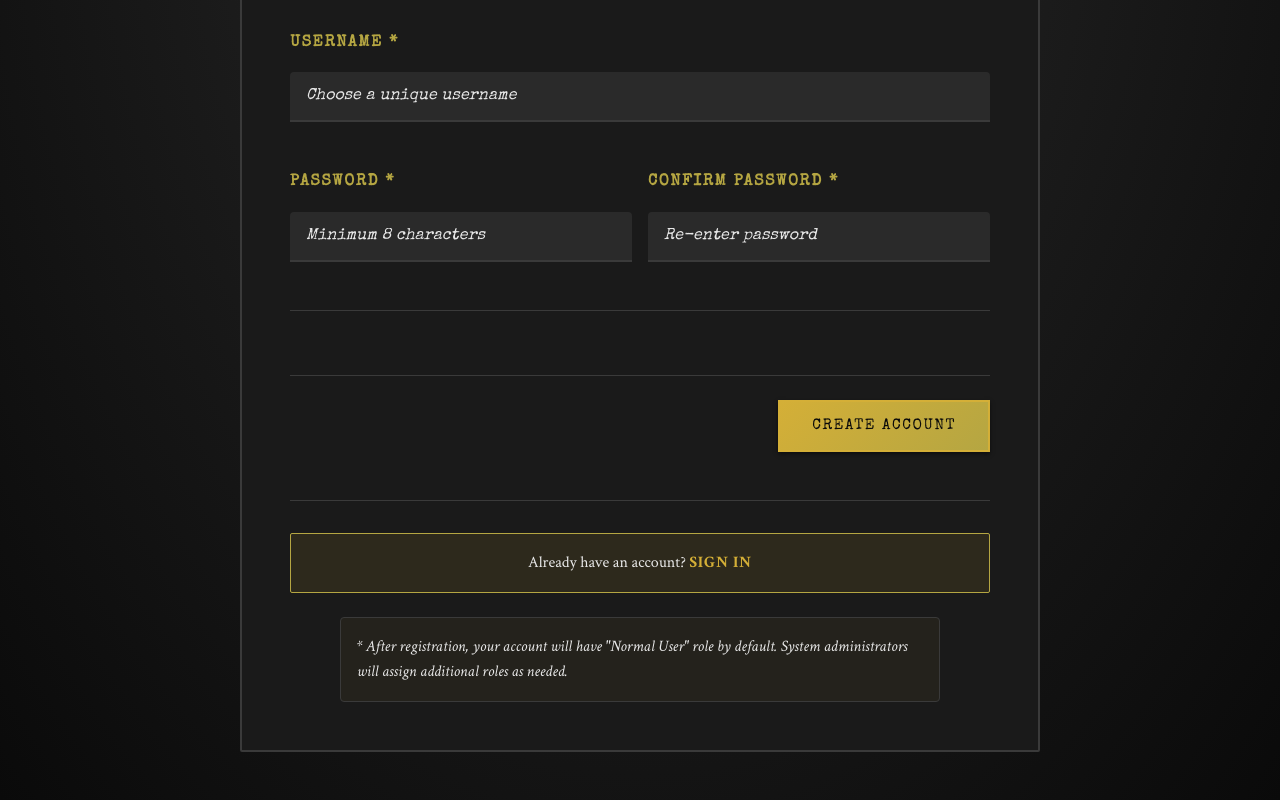
Test: Register Component › shows validation errors for empty required fields
(page scrolled)
What coordinates should you click on to do the following:
click the button "Create Account"
I would click on:
 (884, 426)
Its box is [778,400,990,452].
(page scrolled)
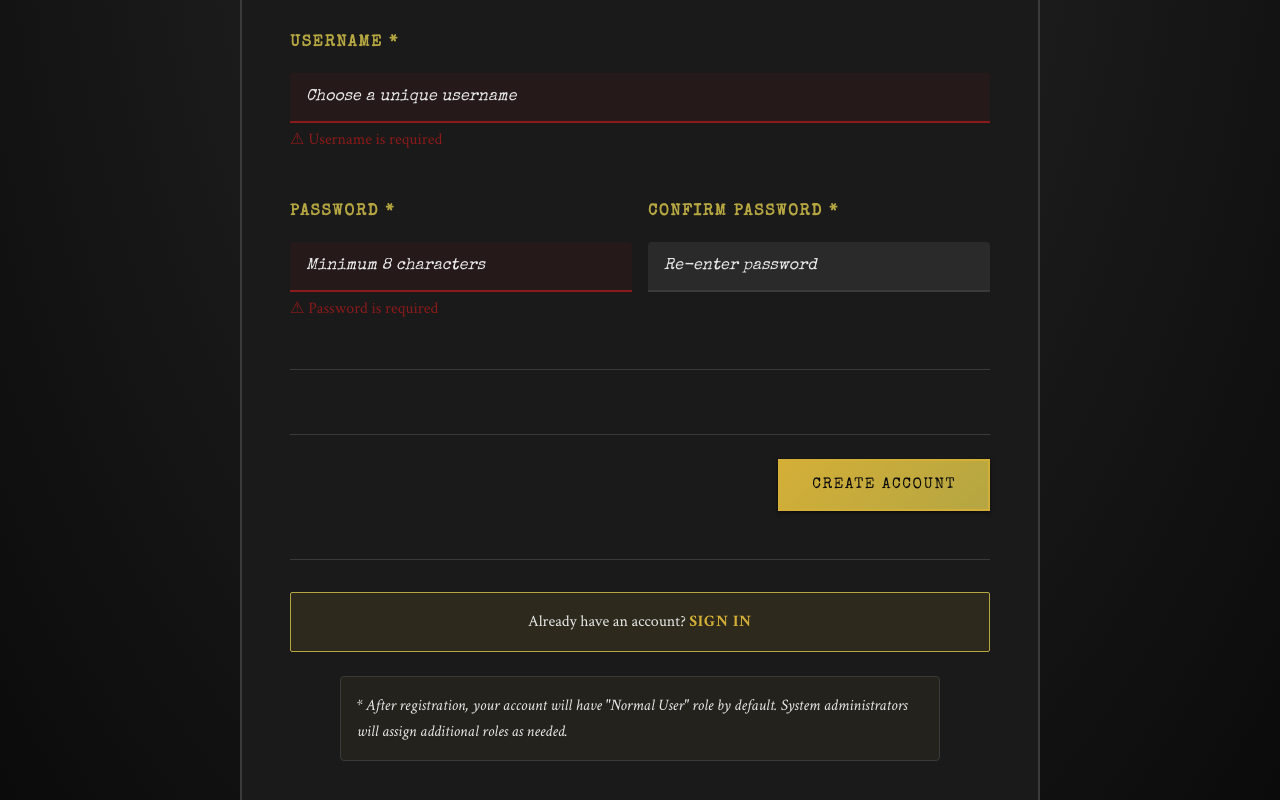
Expected: the text "Username is required" is shown, [308,129,442,150]
Expected: the text "Password is required" is shown, [308,298,438,319]
